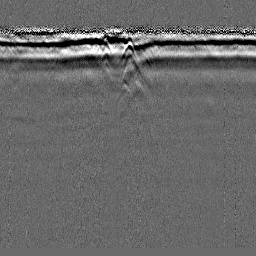cavity: (117, 39, 138, 64)
